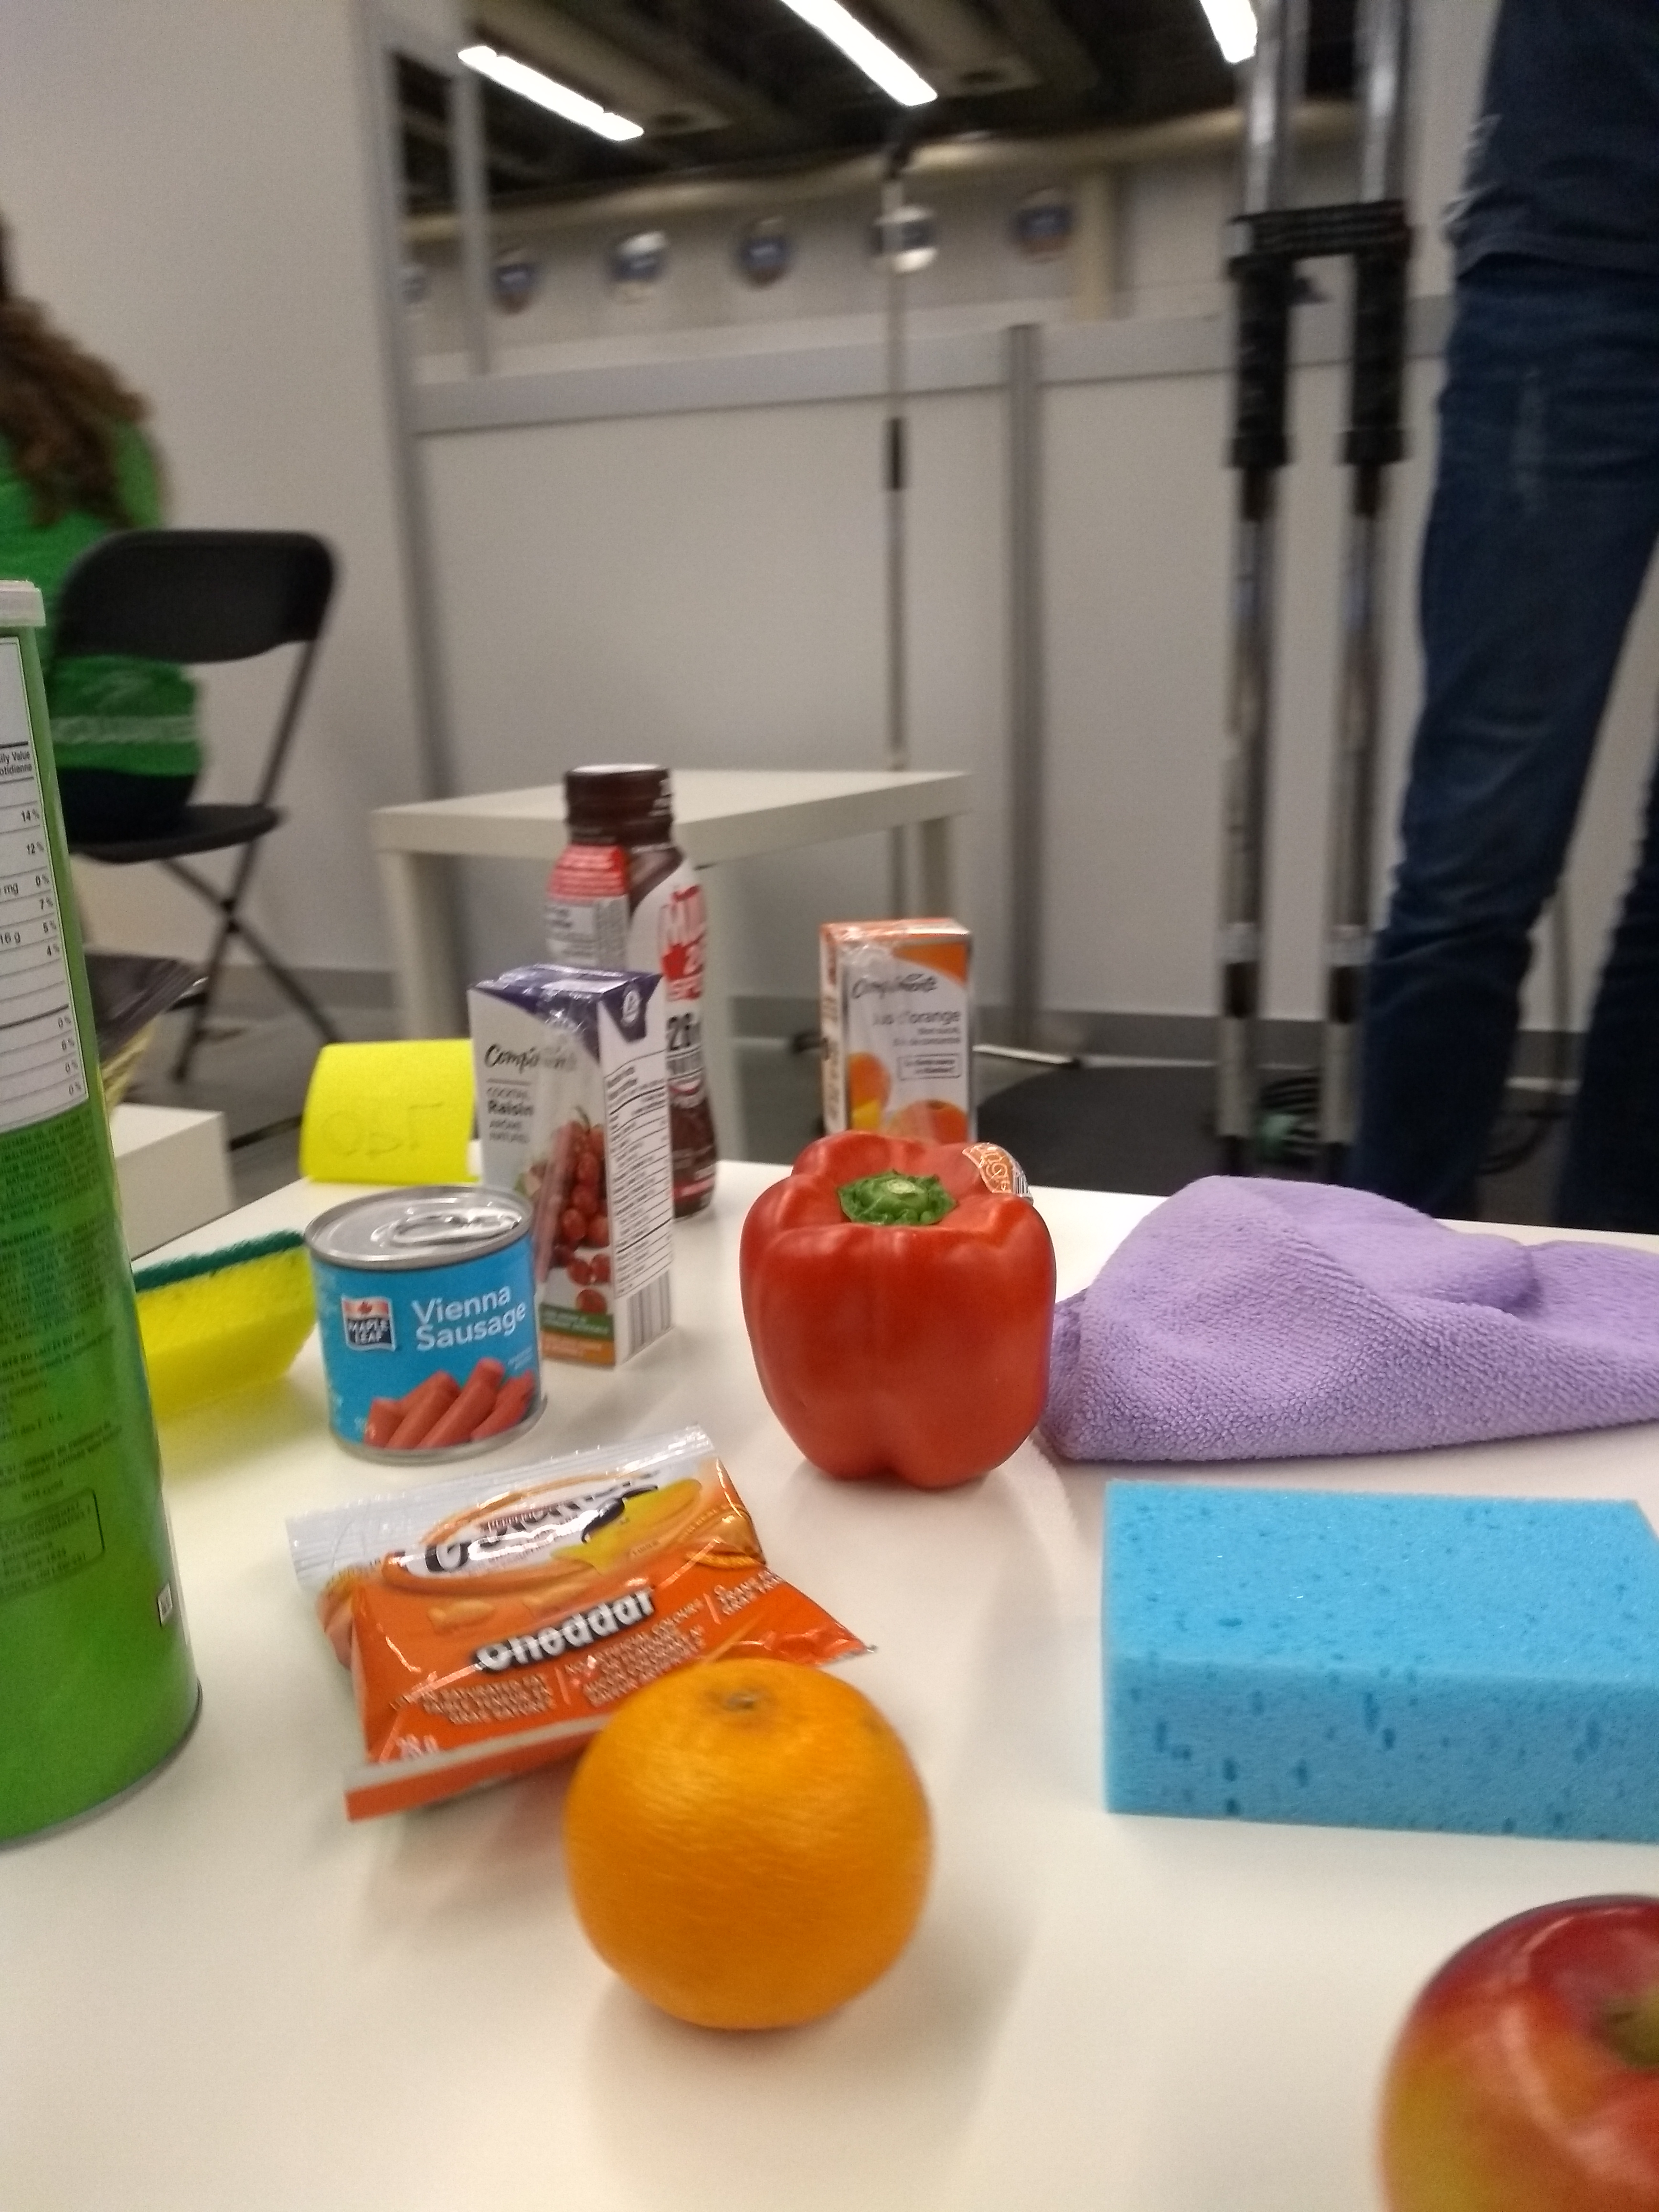apple: (1363, 1867, 1654, 2212)
chocolate_drink: (551, 754, 720, 1207)
cloth_opl: (1049, 1186, 1659, 1475)
grape_juice: (467, 956, 687, 1366)
orange: (551, 1646, 950, 2040)
orange_juice: (803, 906, 988, 1151)
paprika: (735, 1125, 1060, 1498)
pringles: (0, 577, 225, 1869)
sausages: (310, 1186, 563, 1458)
scrubby: (125, 1211, 315, 1444)
sponge_opl: (1098, 1470, 1659, 1850)
